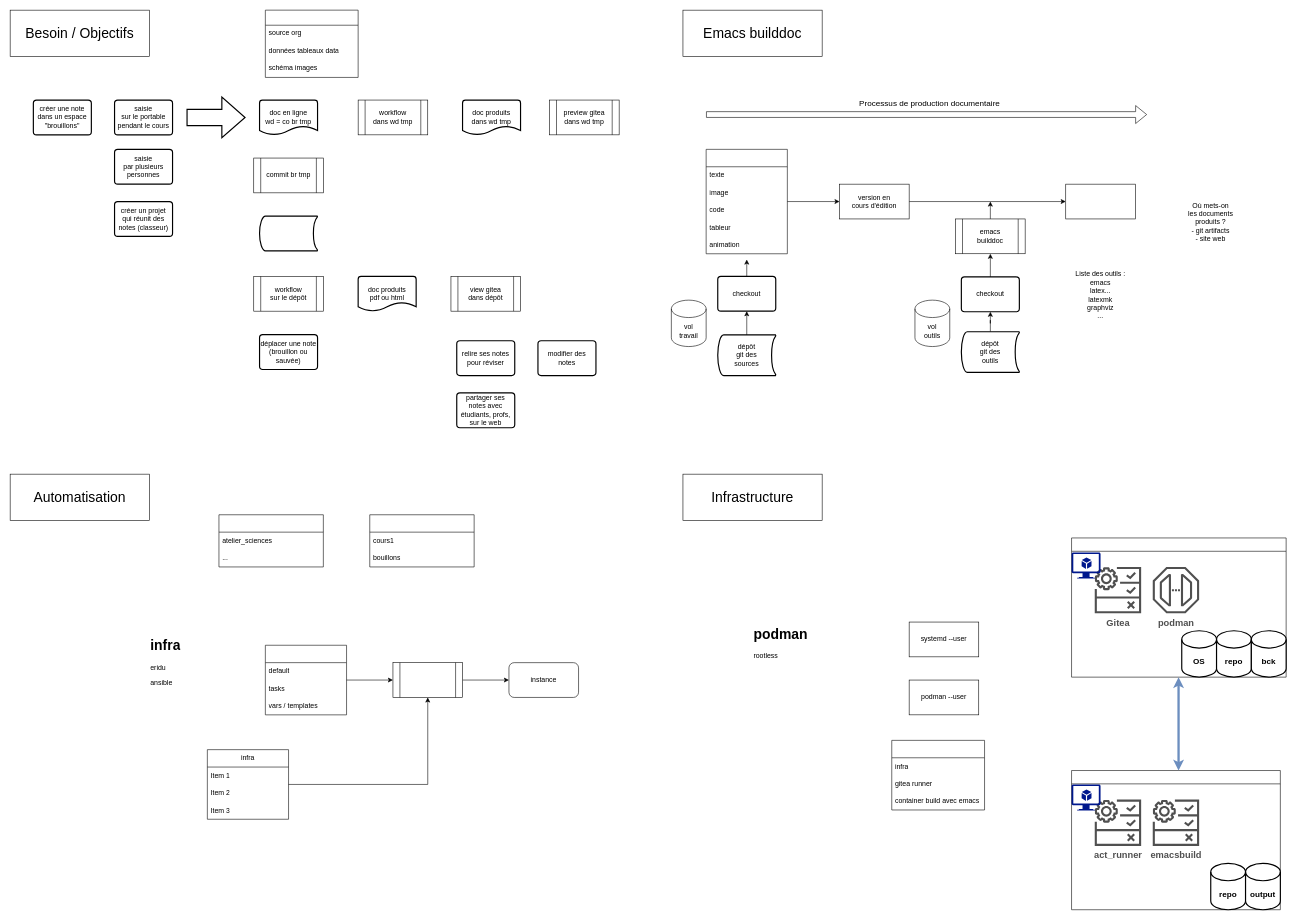
This 1297x920 diagram has some shape labels left out. Each missing label, with the box of its shape:
ansible: (392, 662, 463, 697)
doc sauvé: (259, 215, 318, 251)
document: (265, 10, 358, 77)
documents produits: (1065, 184, 1135, 219)
documents source: (706, 149, 787, 254)
Modules: org de l'étudiant: (369, 514, 474, 567)
Modules: org publius: (218, 514, 323, 567)
pod: (1071, 770, 1280, 910)
pod de build: (891, 740, 985, 810)
role emacs-pod: (265, 645, 347, 715)
Serveur eridu: (1071, 537, 1286, 677)
site gitea: (186, 96, 245, 138)
